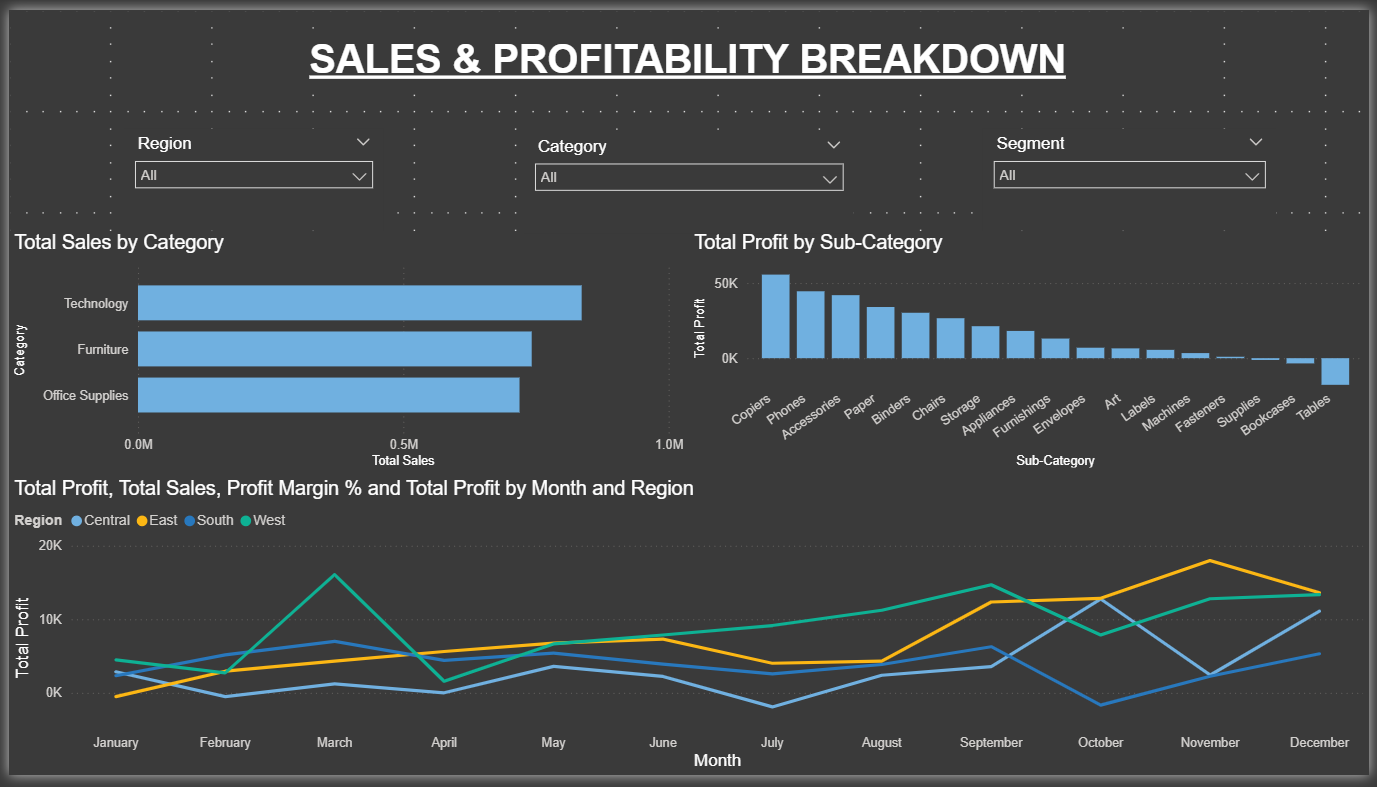

What the dashboard file says about the page in this screenshot:
{"tool":"powerbi","page":{"name":"Page 2","canvas":[1280,720],"ordinal":1},"visuals":[{"type":"clusteredBarChart","fields":{"Category":["cleaned_superstore.Category"],"Y":["cleaned_superstore.Total Sales"]},"box":[0,208.6,640,227.6],"z":0},{"type":"columnChart","fields":{"Category":["cleaned_superstore.Sub-Category"],"Y":["cleaned_superstore.Total Profit"]},"box":[640,208.6,640,227.6],"z":1},{"type":"lineChart","fields":{"Category":["cleaned_superstore.Order Date.Variation.Date Hierarchy.Month"],"Y":["cleaned_superstore.Total Profit"],"Series":["cleaned_superstore.Region"]},"box":[0,440.4,1279.8,279.8],"z":2},{"type":"slicer","fields":{"Values":["cleaned_superstore.Region"]},"box":[107.9,111.4,244.1,96],"z":3},{"type":"slicer","fields":{"Values":["cleaned_superstore.Category"]},"box":[484.7,113.8,310.5,96],"z":4},{"type":"slicer","fields":{"Values":["cleaned_superstore.Segment"]},"box":[916.1,111.4,276.1,96],"z":5},{"type":"textbox","box":[277.7,19.7,776.2,53.9],"z":6}]}

Visuals, with their boxes in screenshot pixels (x1, y1, x2, y2), scaled from the page's 1280x720 canvas onto the 1377x787 screenshot:
clusteredBarChart - cleaned_superstore.Category x cleaned_superstore.Total Sales: (0,228,688,477)
columnChart - cleaned_superstore.Sub-Category x cleaned_superstore.Total Profit: (688,228,1376,477)
lineChart - cleaned_superstore.Order Date.Variation.Date Hierarchy.Month x cleaned_superstore.Total Profit: (0,481,1376,786)
slicer - cleaned_superstore.Region: (116,122,379,227)
slicer - cleaned_superstore.Category: (521,124,855,229)
slicer - cleaned_superstore.Segment: (986,122,1283,227)
textbox: (299,22,1134,80)
